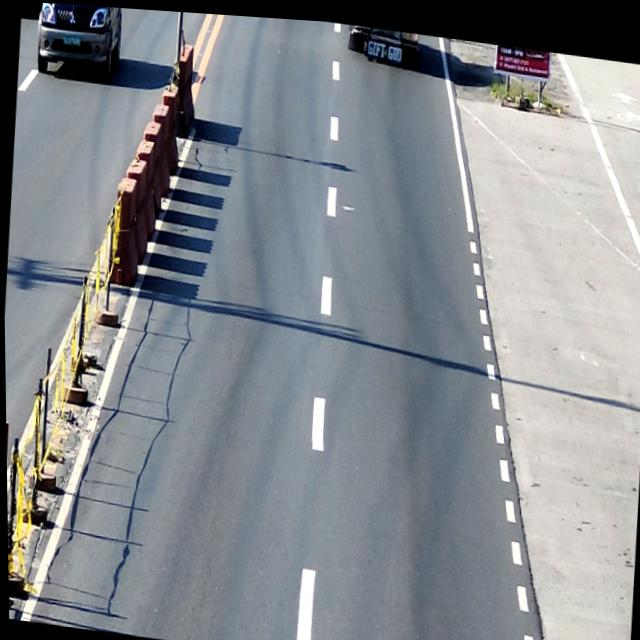Car: (34, 2, 125, 81)
License-Plate: (62, 32, 80, 47)
